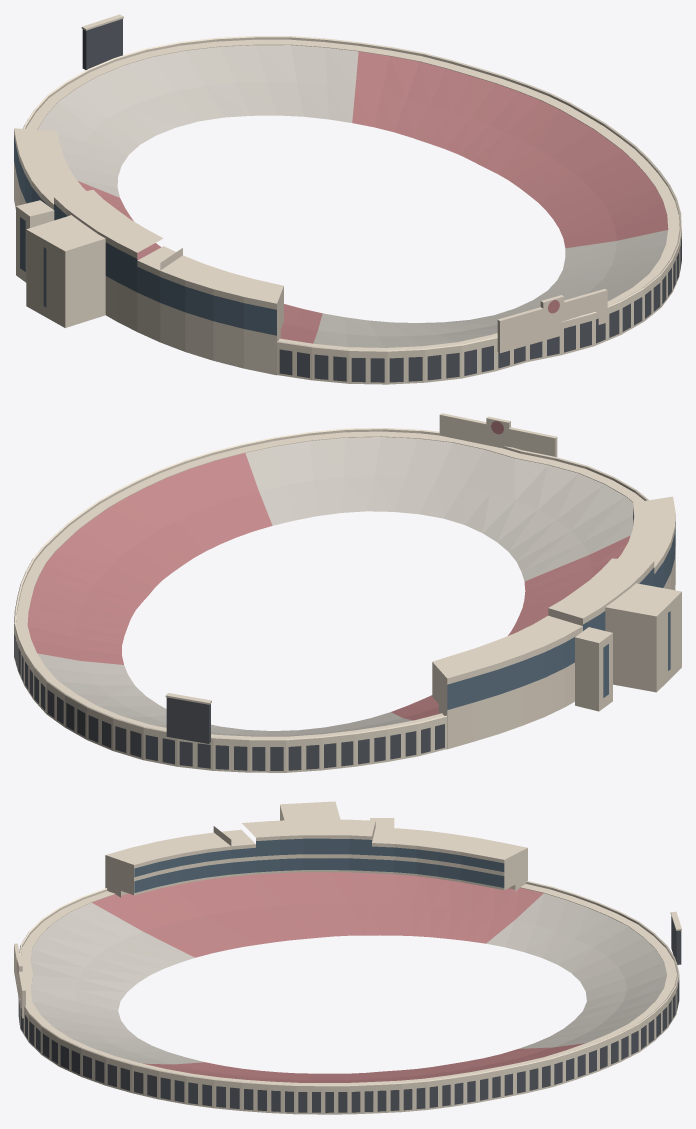
The model's file is detail.glb.
3 views of the same model, one above another, from view 1: azimuth 30°, elevation 25°; view 2: azimuth 150°, elevation 25°; view 3: azimuth 270°, elevation 25° (orthographic). The views are drawn at different scales.
Visible parts, largest first — view 1: rose-bowl; view 2: rose-bowl; view 3: rose-bowl.
Part boxes in pixels (x1,y1,x2,y2): rose-bowl: [14, 14, 681, 384]; rose-bowl: [14, 413, 681, 772]; rose-bowl: [14, 801, 681, 1114].
Size of the model in its own units: 241 by 31 by 275.
